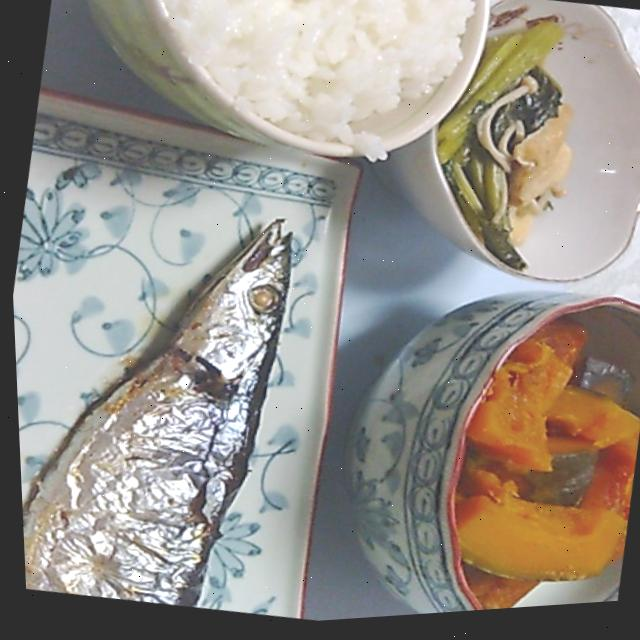米饭主食: (119, 0, 495, 197)
